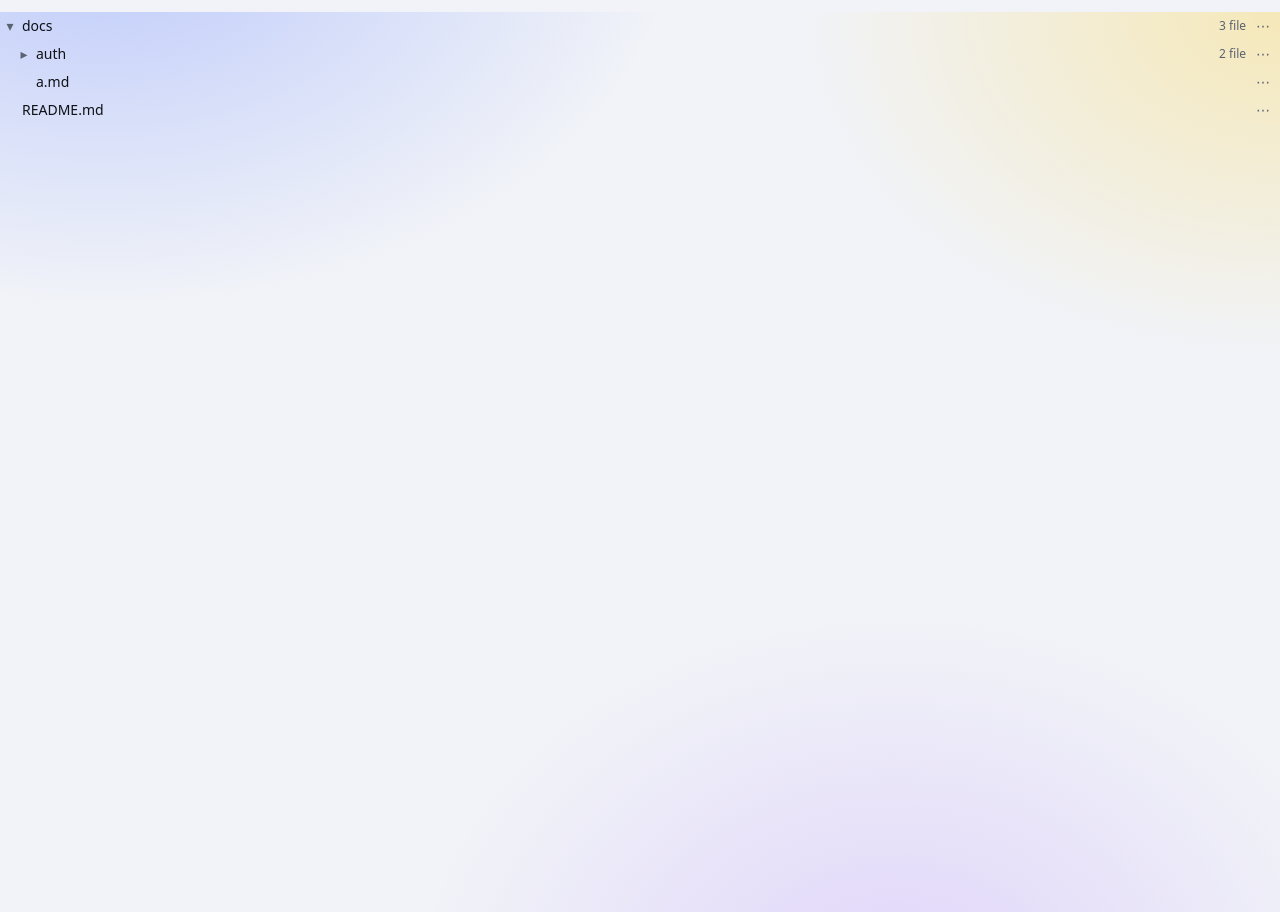
it: TreeView node menu › reports the chosen action with the node and closes the menu
Click the button named "Aksi untuk docs". click: [1263, 26]
box: top-left (1250, 14), bottom-right (1276, 38)
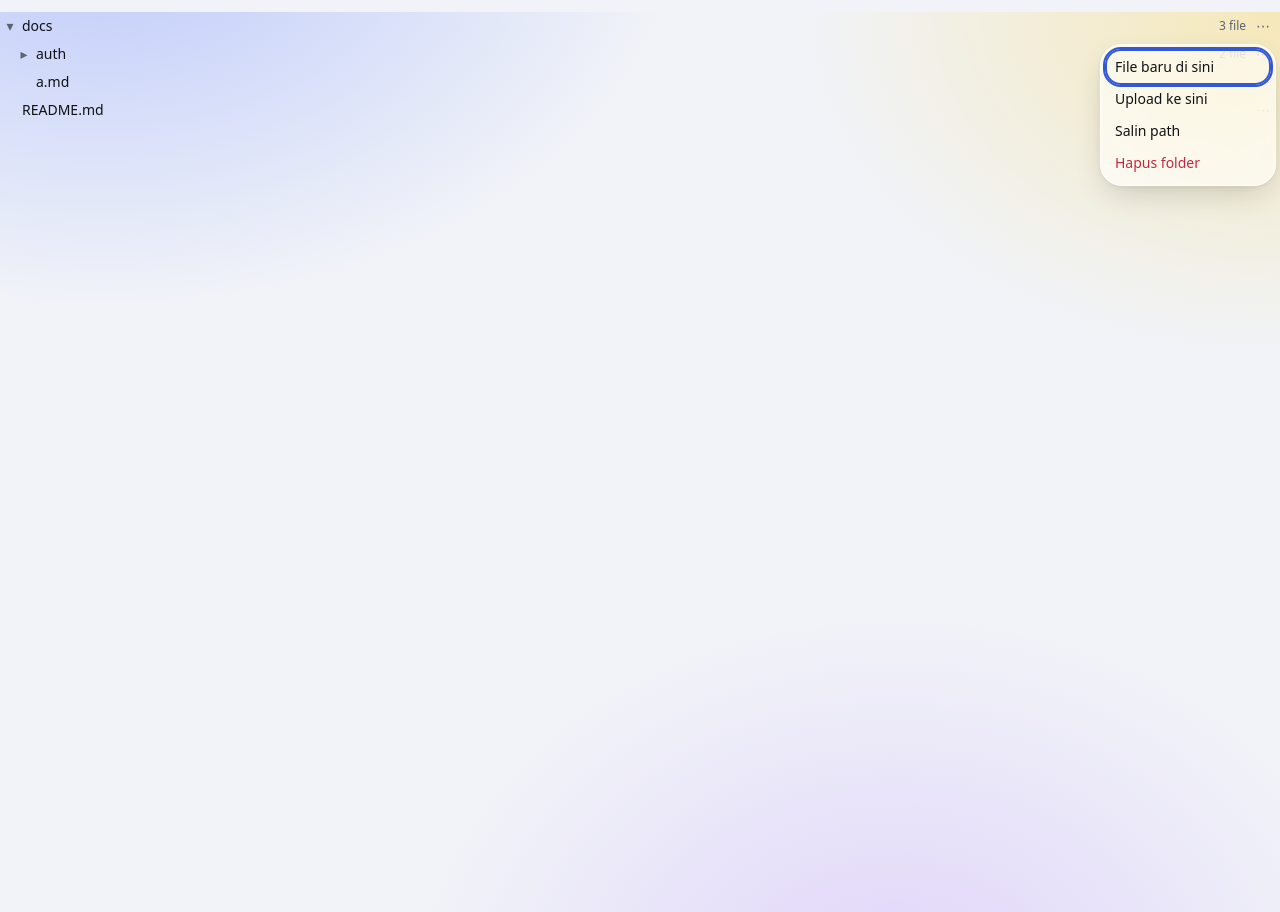
Click the menu item "Hapus folder". click: [1188, 163]
box: top-left (1107, 147), bottom-right (1269, 179)
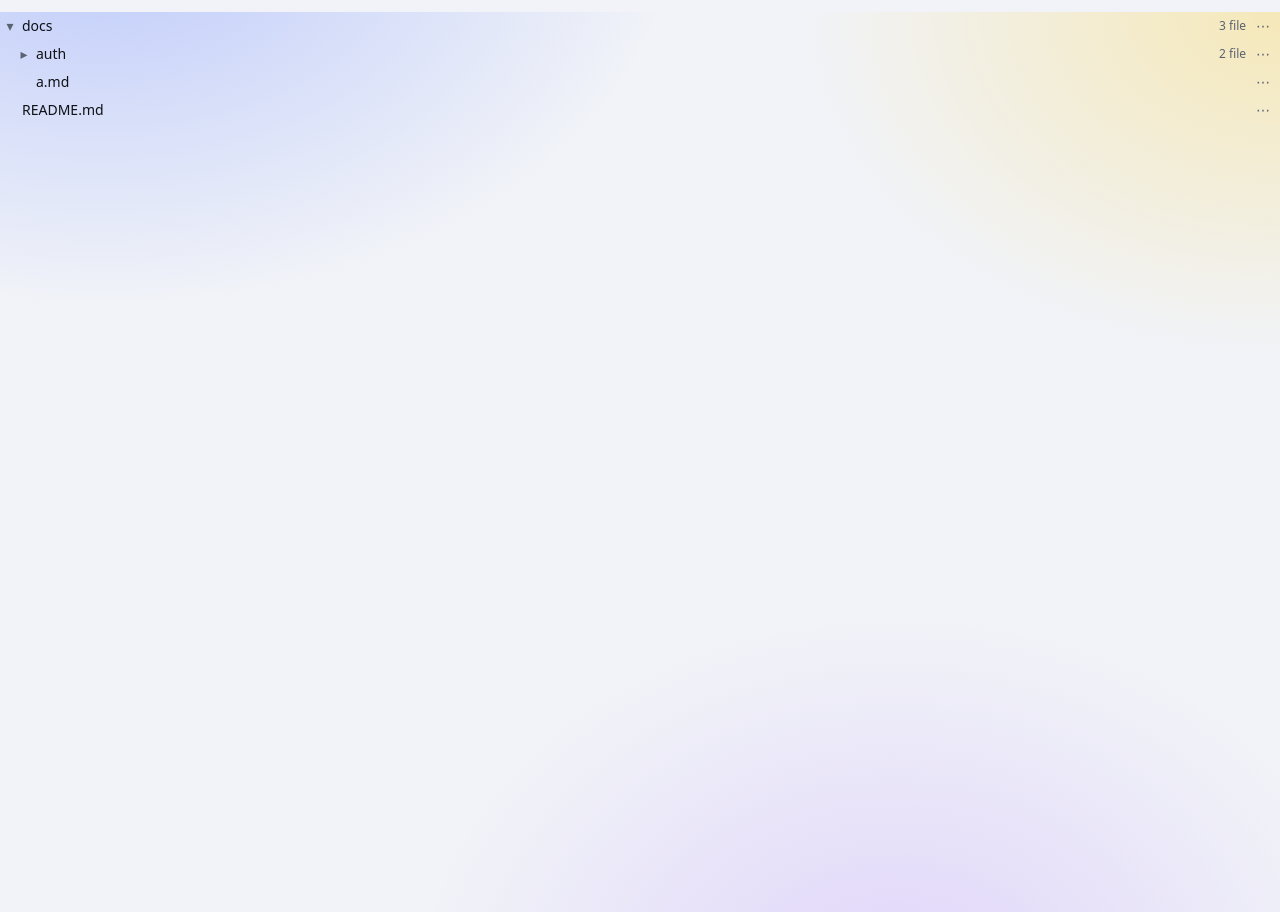
expect the menu is gone: met
